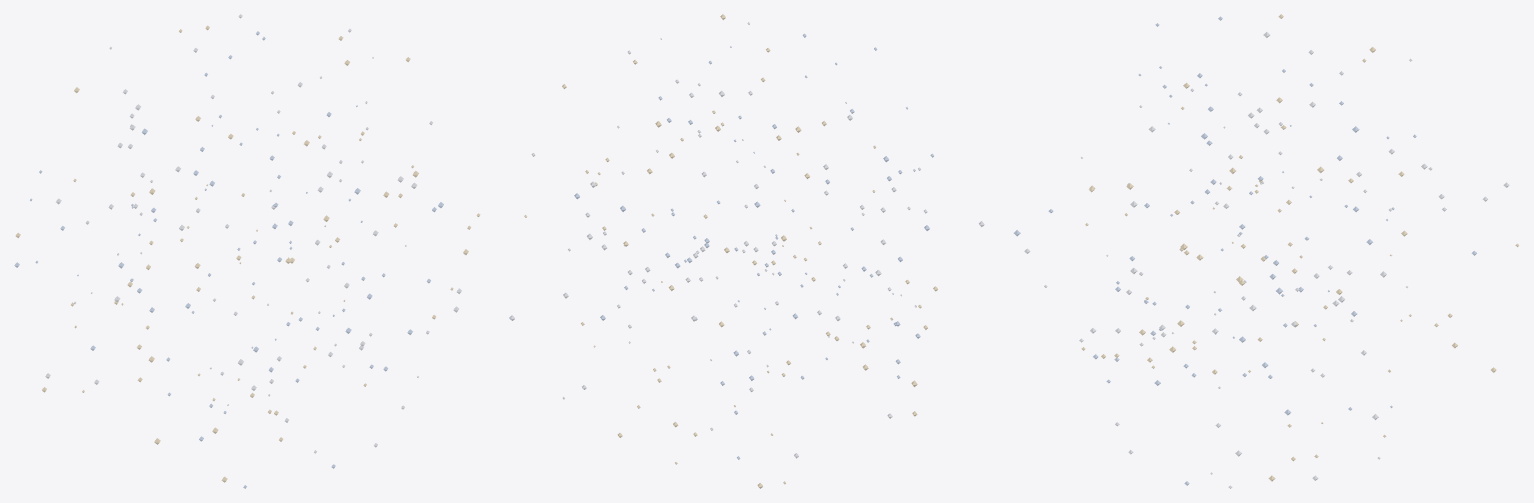
3 views of the same model, side by side, from view 1: azimuth 30°, elevation 25°; view 2: azimuth 150°, elevation 25°; view 3: azimuth 270°, elevation 25° (orthographic). The views are drawn at different scales.
Bounding box in the file's own units: 4.65 × 5.1 × 5.07.
